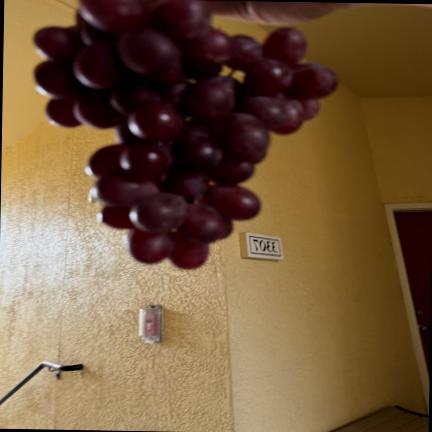grape_cluster: (33, 0, 336, 268)
